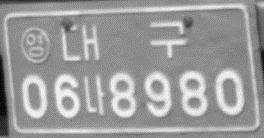0: (214, 68, 245, 116), (19, 73, 49, 121)
6: (53, 73, 83, 120)
8: (178, 70, 209, 117), (108, 72, 138, 118)
9: (142, 70, 174, 120)
나: (82, 73, 107, 116)
대구_D: (60, 18, 189, 64)
영: (19, 25, 52, 62)
